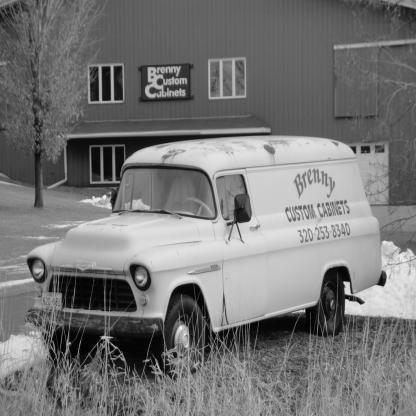car: (21, 115, 398, 373)
